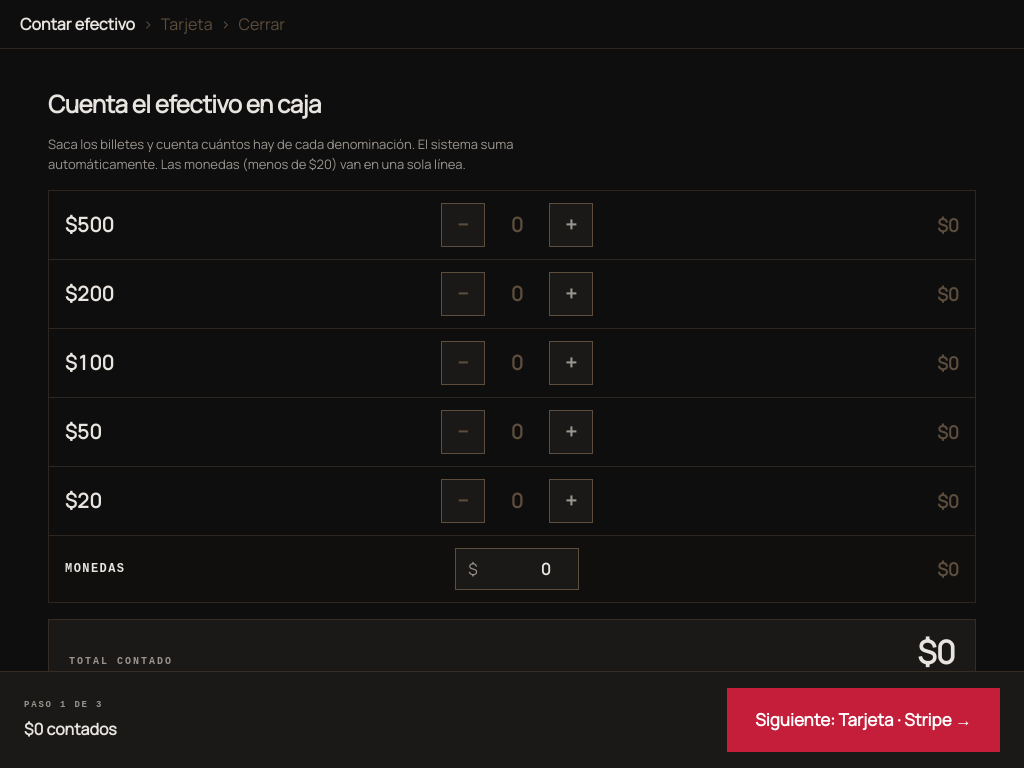
Scenario: CloseCajaWizard › next button advances to step 2
The width and height of the screenshot is (1024, 768).
Expected: the text "Cuenta el efectivo en caja" is shown, [48,87,321,120]
What coordinates should you click on to do the following:
click the button "Siguiente: Tarjeta · Stripe →"
I would click on:
 (864, 720)
Its box is [727,688,1000,752].
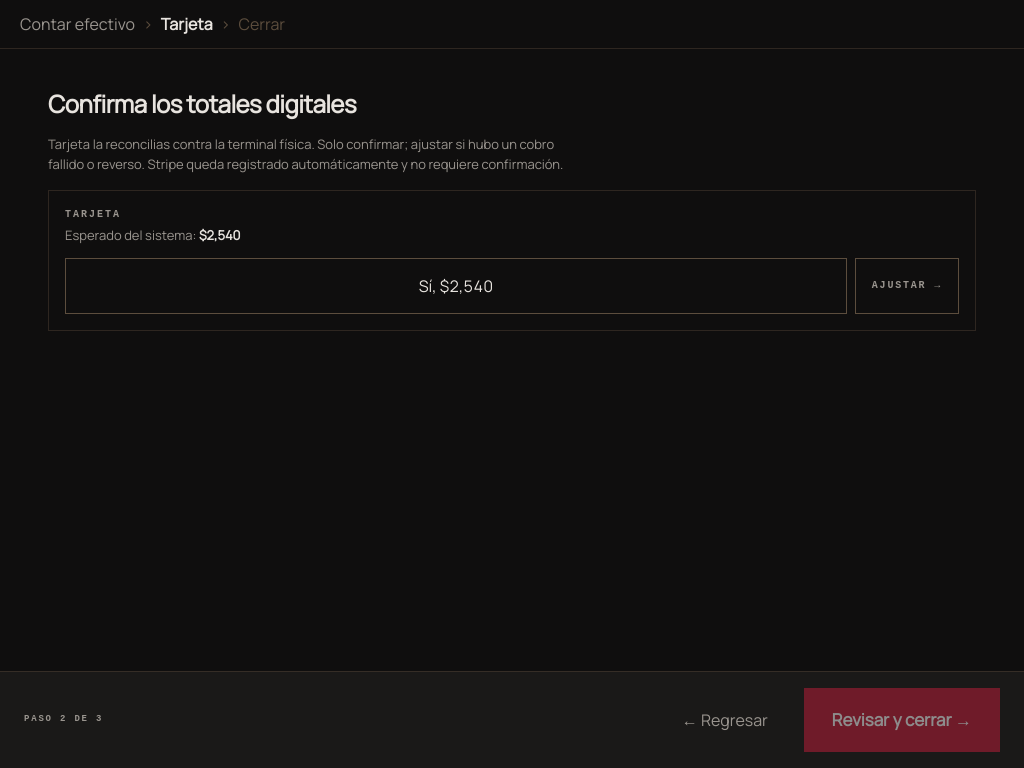
Expected: the text "Confirma los totales digitales" is shown, [48,87,356,120]
